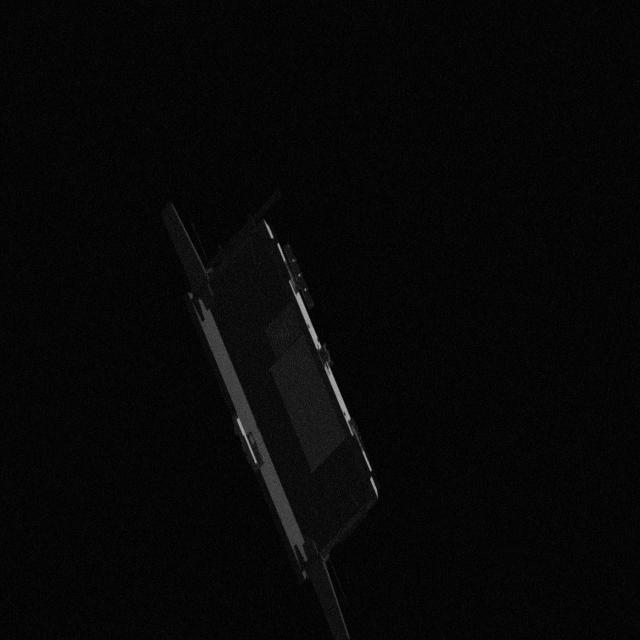medium_debris: (150, 176, 388, 638)
